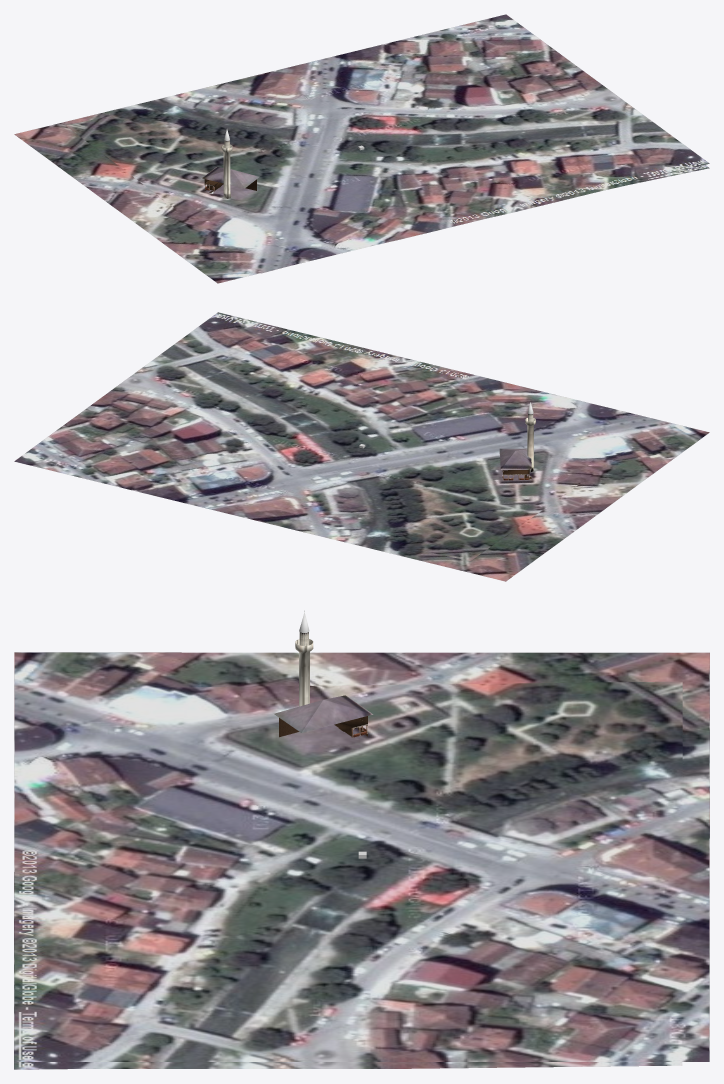
Rendered from Sarena.glb.
3 views of the same model, one above another, from view 1: azimuth 30°, elevation 25°; view 2: azimuth 150°, elevation 25°; view 3: azimuth 270°, elevation 25° (orthographic). The views are drawn at different scales.
Visible parts, largest first — view 1: G-Google Earth Snapshot, G-Google Earth Terrain, _(Loose Entity), C-Kula; view 2: G-Google Earth Snapshot, G-Google Earth Terrain, _(Loose Entity); view 3: G-Google Earth Snapshot, G-Google Earth Terrain, _(Loose Entity), C-Kula.
Part boxes in pixels (x1,y1,x2,y2): G-Google Earth Snapshot: (14, 14, 709, 283); G-Google Earth Terrain: (65, 102, 709, 273); _(Loose Entity): (202, 167, 259, 193); C-Kula: (221, 128, 232, 198); G-Google Earth Snapshot: (14, 312, 709, 581); G-Google Earth Terrain: (307, 355, 644, 560); _(Loose Entity): (499, 448, 531, 480); G-Google Earth Snapshot: (14, 652, 709, 1061); G-Google Earth Terrain: (14, 681, 682, 1069); _(Loose Entity): (274, 695, 372, 737); C-Kula: (295, 611, 313, 706).
Bounding box in the file's own units: 248 × 36.3 × 178.
Materials: 11 (10 with a texture image).
